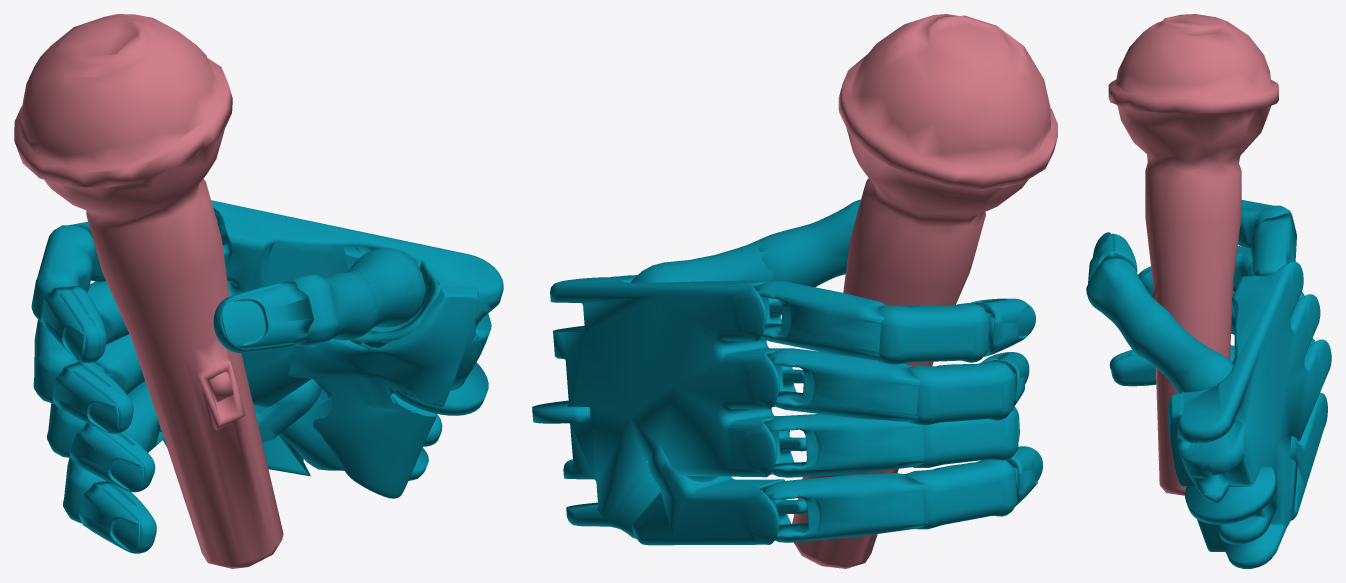
3 renders of one model, left to right at view 1: azimuth 30°, elevation 25°; view 2: azimuth 150°, elevation 25°; view 3: azimuth 270°, elevation 25°, orthographic. The views are drawn at different scales.
Parts seen in each view (by area): view 1: world; view 2: world; view 3: world.
Boxes of the visible parts, x1=… form: world: x1=14, y1=14, x2=503, y2=568; world: x1=532, y1=14, x2=1057, y2=568; world: x1=1086, y1=14, x2=1331, y2=568.
Size of the model in its own units: 0.1786 by 0.2 by 0.103.
